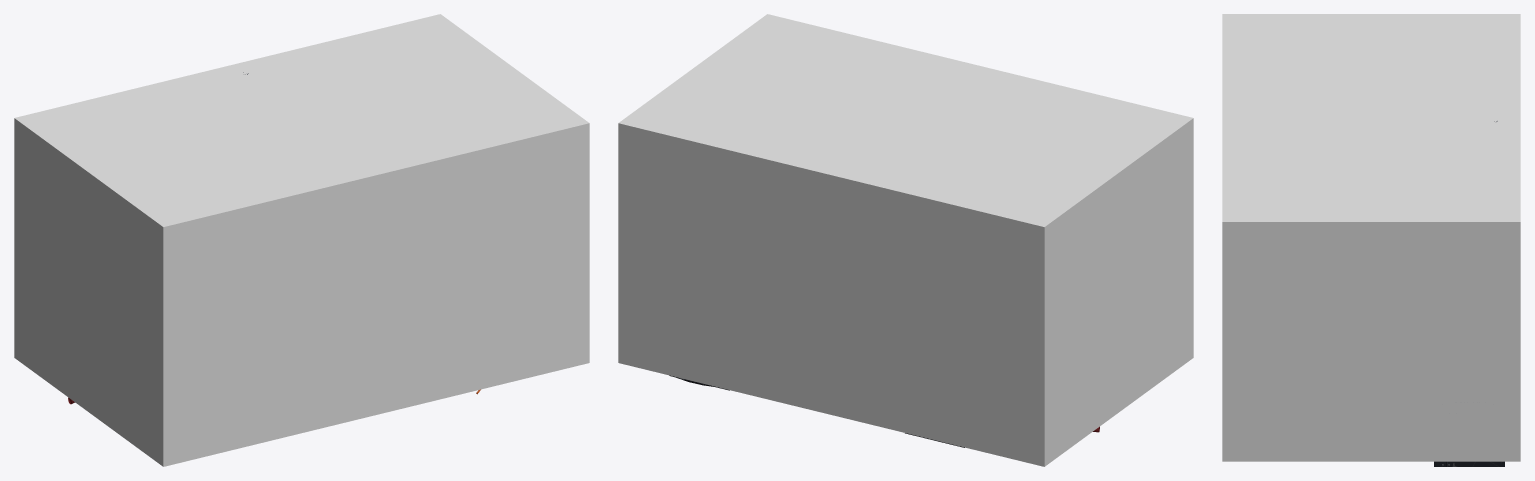
Rendered from Furn_Workstation_Lived.001.gltf.
The picture shows the model from 3 angles, left to right: view 1: azimuth 30°, elevation 25°; view 2: azimuth 150°, elevation 25°; view 3: azimuth 270°, elevation 25°; orthographic projection.
Parts seen in each view (by area): view 1: Furn_Workstation_Lived.001_COL; view 2: Furn_Workstation_Lived.001_COL; view 3: Furn_Workstation_Lived.001_COL, Furn_Workstation_Lived.001.
Part boxes in pixels (x1,y1,x2,y2): Furn_Workstation_Lived.001_COL: [14, 14, 589, 466]; Furn_Workstation_Lived.001_COL: [618, 14, 1193, 466]; Furn_Workstation_Lived.001_COL: [1222, 14, 1520, 461]; Furn_Workstation_Lived.001: [1434, 121, 1504, 466].
Bounding box in the file's own units: 3.12 × 1.73 × 1.89.
19 materials, 5 textured.
